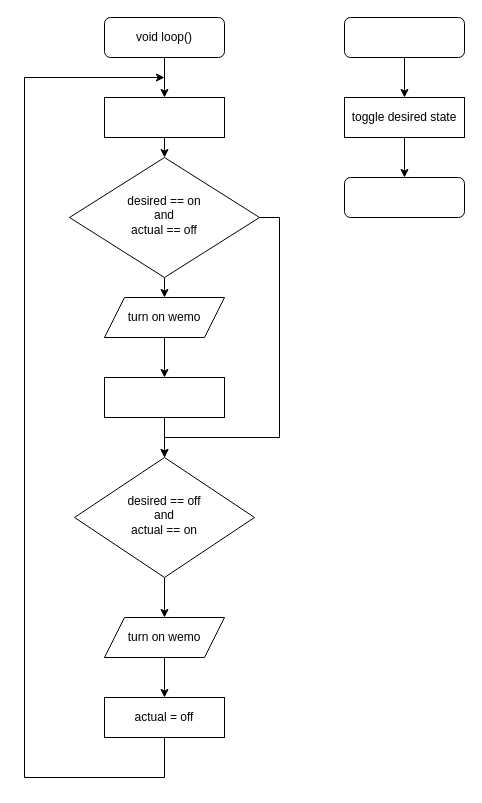
The diagram is 482 pixels wide and 803 high, and some of its shapes have lost their labels. Each missing label, with the centre of its shape:
actual = on: the point at 164,397
return: the point at 404,197
tick(): the point at 164,117
voil click1(): the point at 404,37
